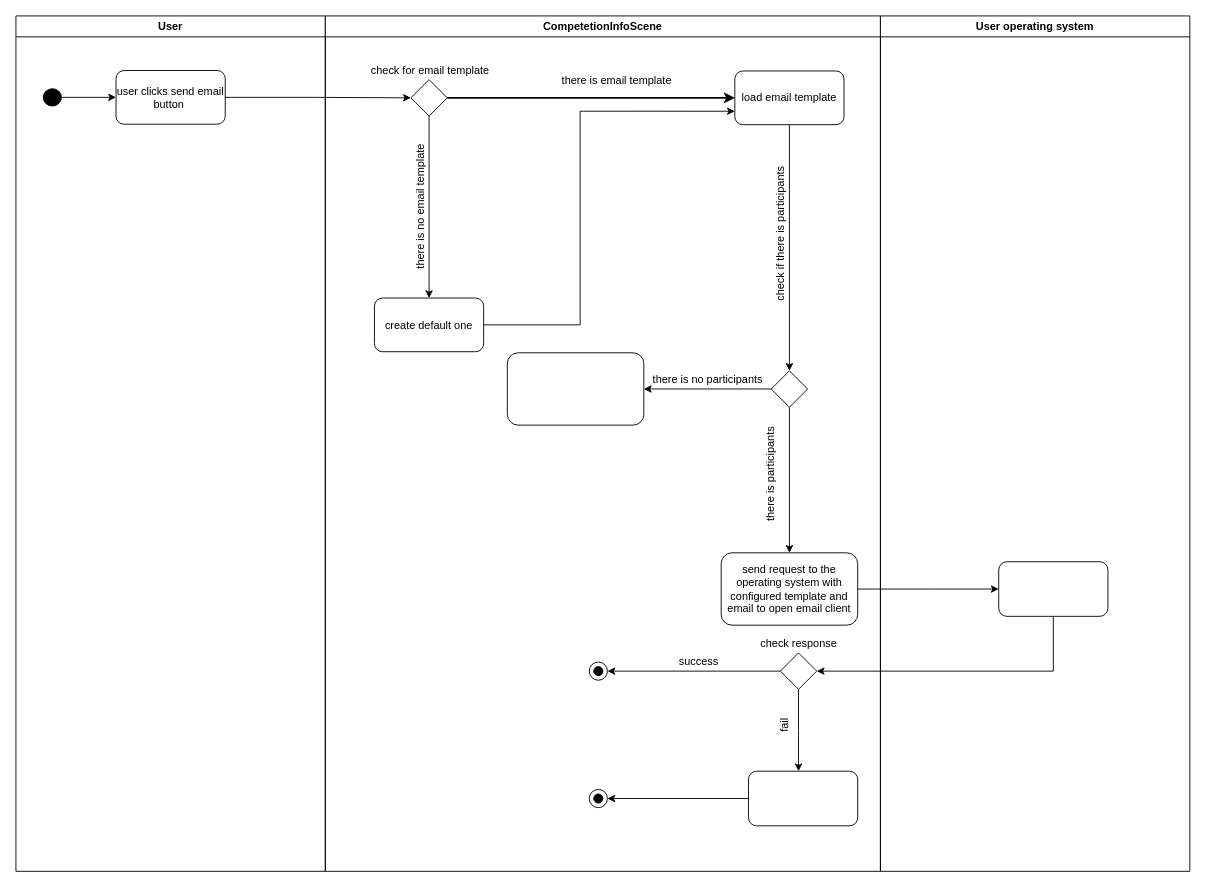
Some shapes in this 1206 by 887 pixel diagram are drawn without their labels. The shapes that lost their labels are listed below. From the top down, each one's centre as x and y in pixels, then its label:
At point 575,388: "show alert to the user there is no particpants to send email to".
At point 1053,588: "proccess request".
At point 803,798: "show error message to the user".
